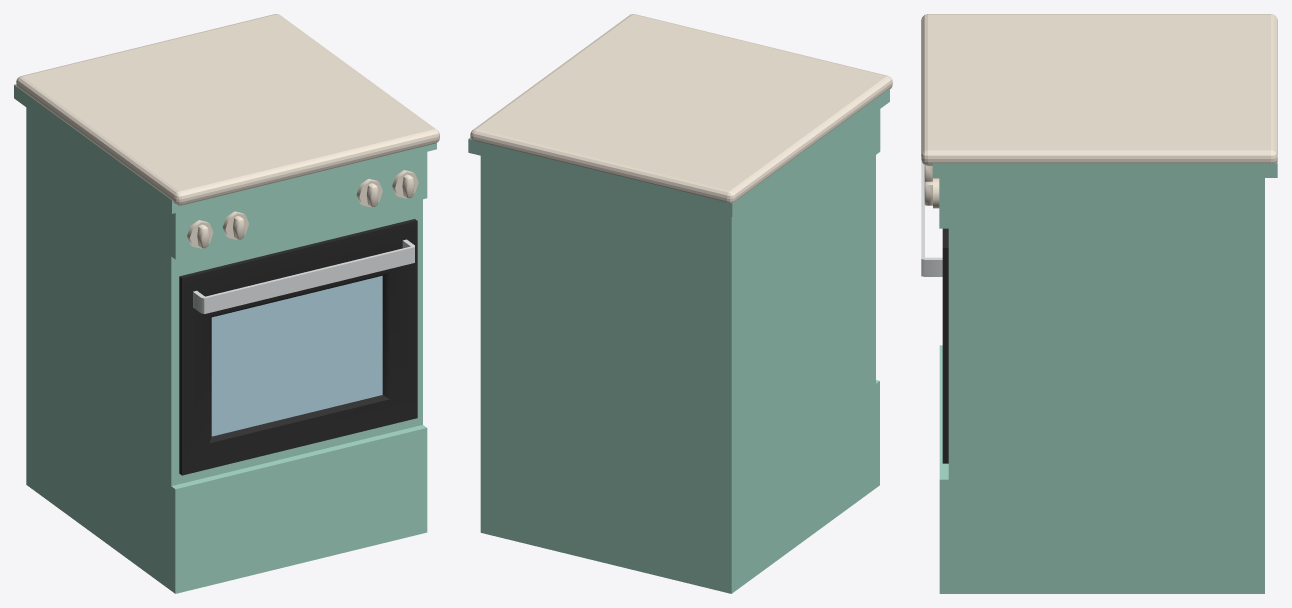
Rendered from dishwasher_b.glb.
3 views of the same model, side by side, from view 1: azimuth 30°, elevation 25°; view 2: azimuth 150°, elevation 25°; view 3: azimuth 270°, elevation 25° (orthographic). The views are drawn at different scales.
Visible parts, largest first — view 1: body; view 2: body; view 3: body.
Boxes of the visible parts, bbox=[...] form: body: bbox=[14, 14, 439, 593]; body: bbox=[468, 14, 892, 593]; body: bbox=[921, 14, 1277, 593].
Bounding box in the file's own units: 0.6 × 0.88 × 0.64.
